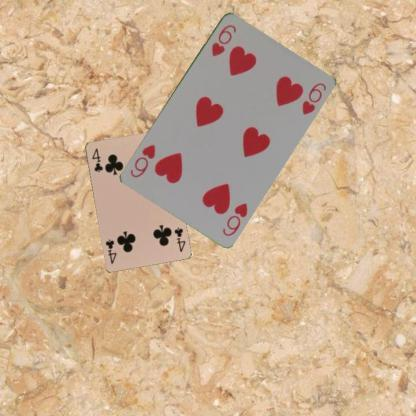4c: (89, 146, 104, 173), (172, 225, 186, 253)
6h: (208, 22, 238, 58), (220, 200, 249, 237)
